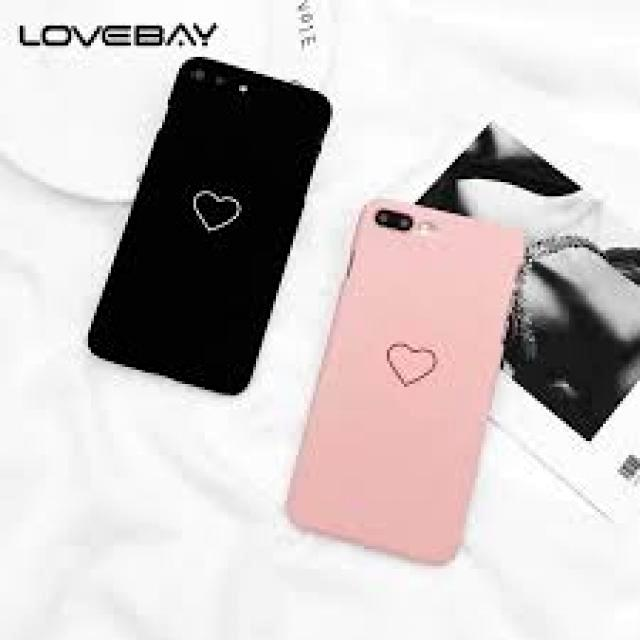lens_back: (211, 70, 231, 90), (186, 68, 207, 84), (374, 210, 392, 226), (396, 214, 412, 231)
phone: (281, 198, 529, 568), (89, 56, 334, 397)
